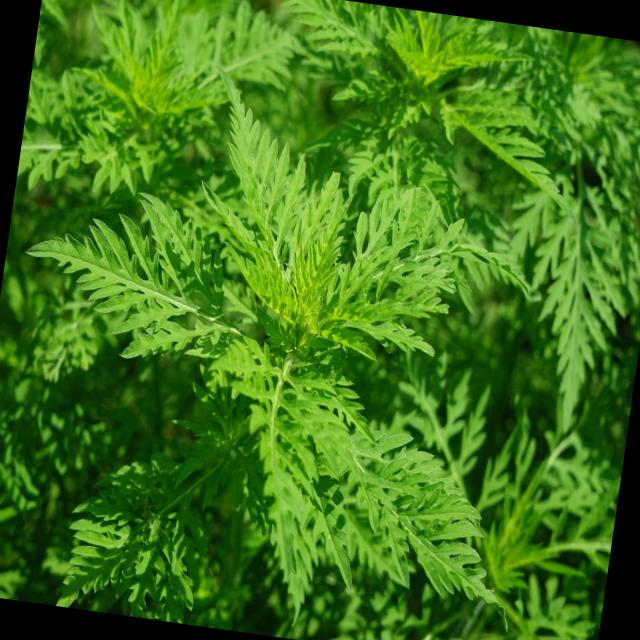ambrosia: (158, 95, 490, 374), (244, 386, 508, 623), (13, 190, 276, 378), (39, 0, 224, 197), (319, 0, 550, 142)
